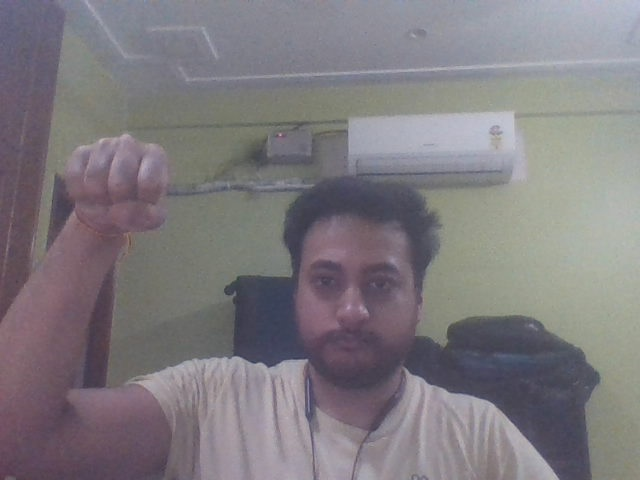Yes: (42, 125, 204, 264)
